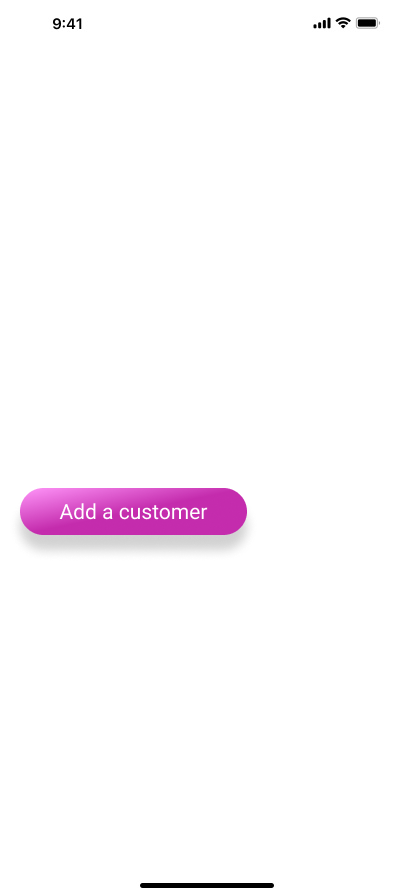Buttons: (8, 488, 259, 562)
Home Indicator: (0, 862, 414, 896)
Status Bar: (0, 0, 414, 44)
